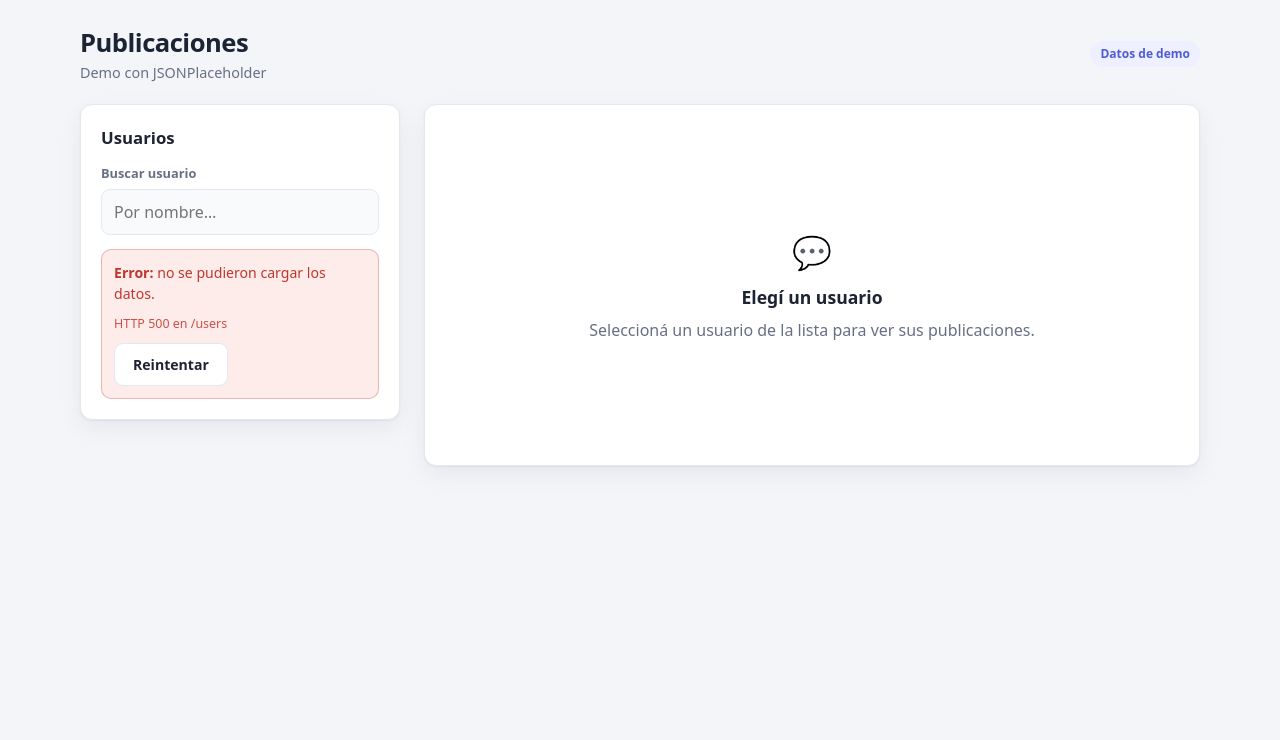
Test: estados de error › muestra el error de usuarios y permite reintentar
expect the message shows "Error": met, box [114, 263, 154, 282]
Click the button "Reintentar" at (171, 365), box [114, 343, 228, 386]
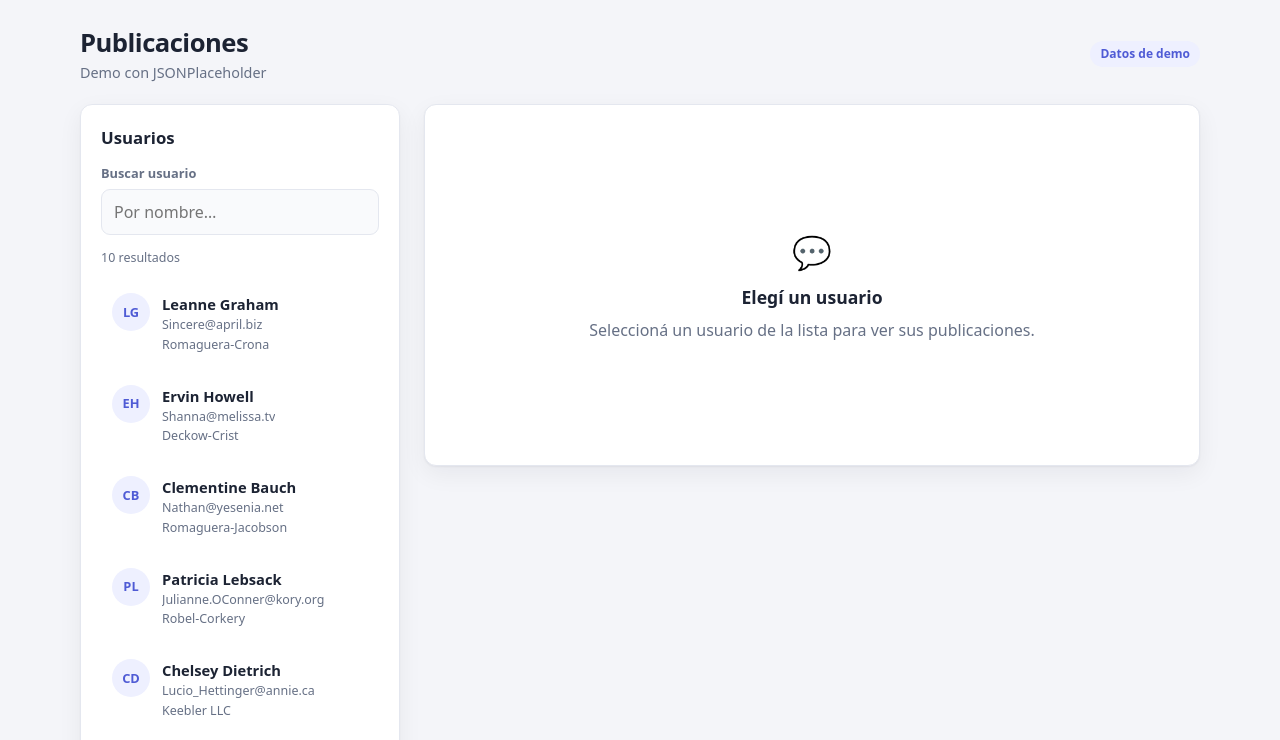
expect the text "Leanne Graham" is shown: met, box [162, 293, 279, 315]
